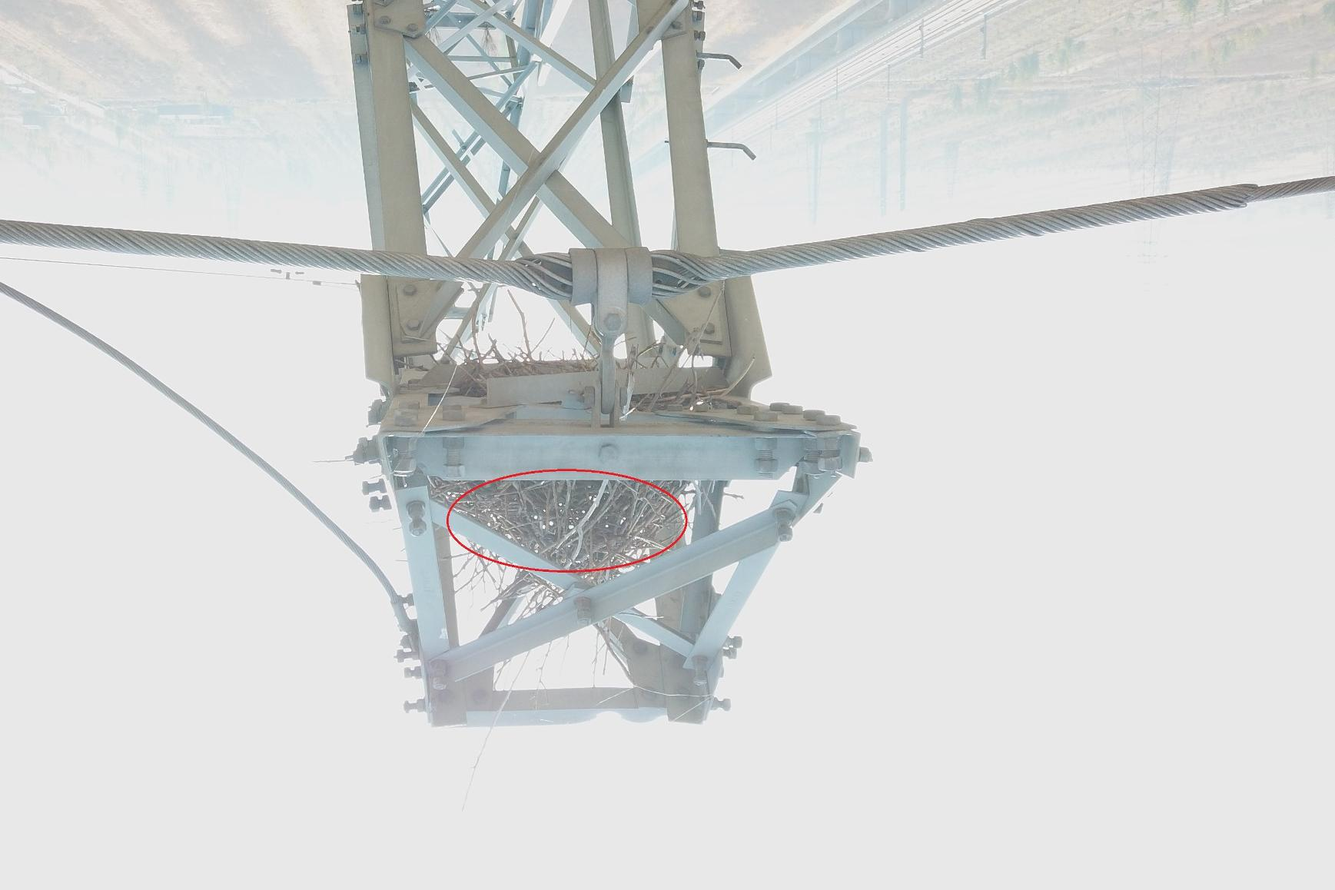nest: (420, 470, 700, 610)
